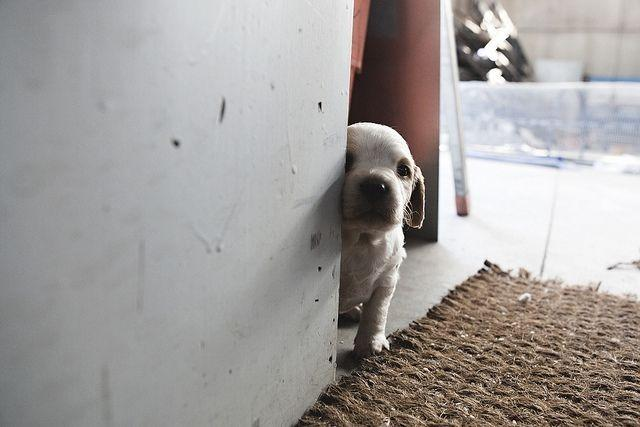puppy-dog: (336, 121, 427, 365)
